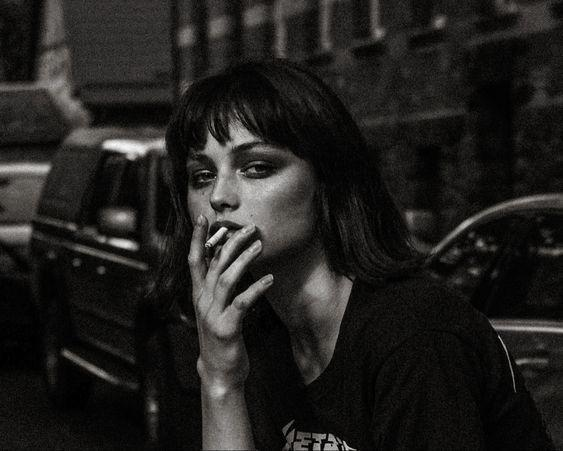cigarette: (205, 226, 229, 249)
